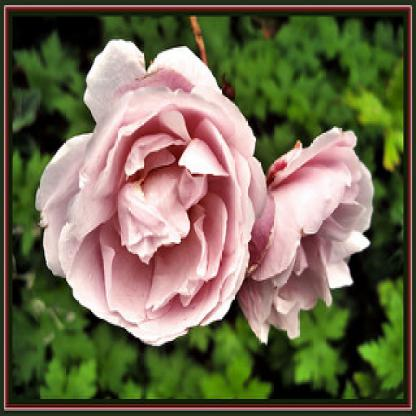ROSE-MAWAR: (25, 30, 380, 352)
